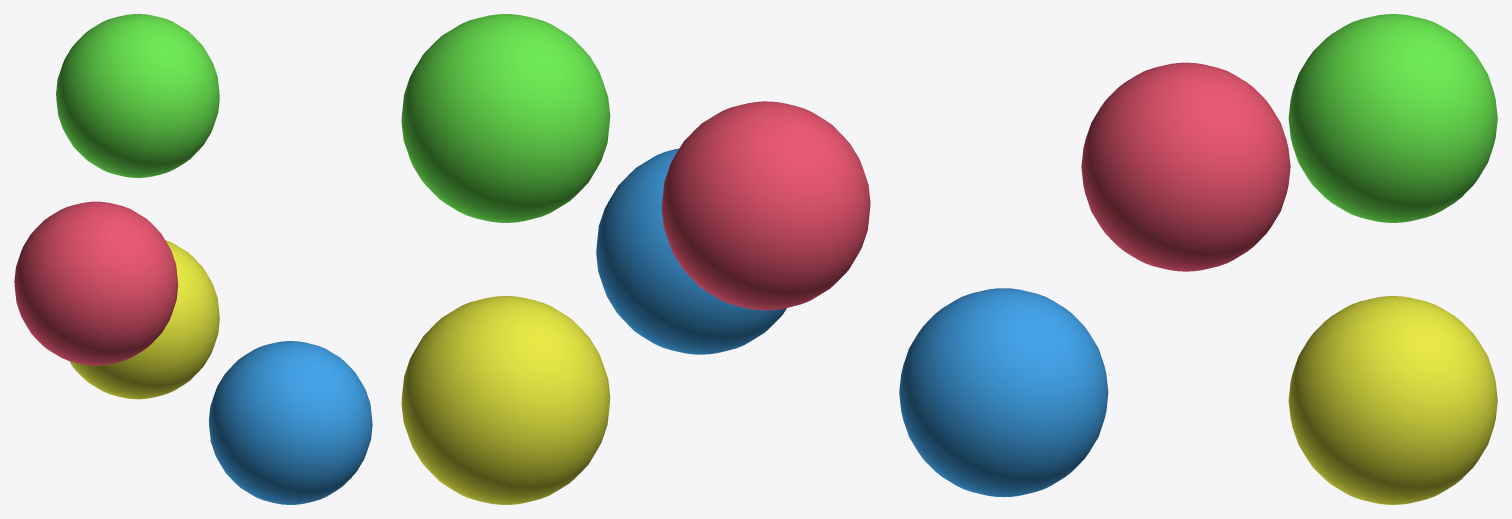
File: 4ball.gltf
3 renders of one model, left to right at view 1: azimuth 30°, elevation 25°; view 2: azimuth 150°, elevation 25°; view 3: azimuth 270°, elevation 25°, orthographic. The views are drawn at different scales.
Parts seen in each view (by area): view 1: Sphere, Sphere.002, Sphere.001, Sphere.003; view 2: Sphere, Sphere.003, Sphere.001, Sphere.002; view 3: Sphere.002, Sphere, Sphere.001, Sphere.003.
Boxes of the visible parts, bbox=[...] form: Sphere: bbox=[14, 201, 178, 365]; Sphere.002: bbox=[208, 341, 372, 504]; Sphere.001: bbox=[56, 14, 219, 177]; Sphere.003: bbox=[69, 240, 219, 399]; Sphere: bbox=[661, 101, 870, 310]; Sphere.003: bbox=[401, 296, 610, 504]; Sphere.001: bbox=[401, 14, 610, 222]; Sphere.002: bbox=[596, 148, 786, 354]; Sphere.002: bbox=[899, 288, 1108, 497]; Sphere: bbox=[1081, 62, 1290, 271]; Sphere.001: bbox=[1288, 14, 1497, 222]; Sphere.003: bbox=[1288, 296, 1497, 504].
Size of the model in its own units: 3.73 by 4.97 by 5.72.
